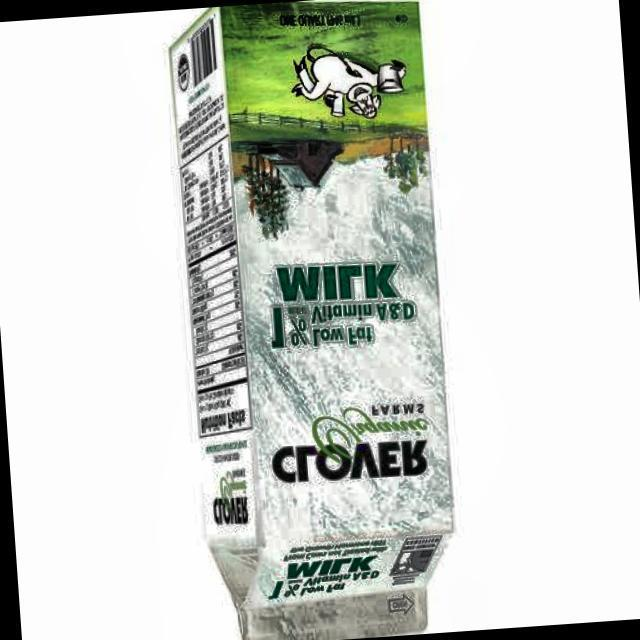cardboard: (164, 0, 464, 640)
